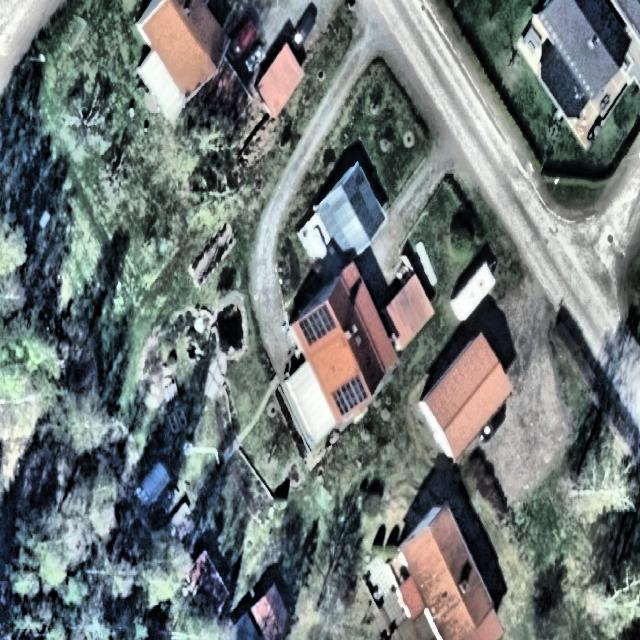roof_pv: (296, 298, 339, 348), (331, 369, 370, 419)
